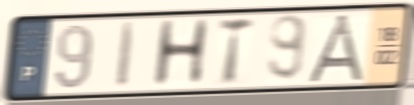9: (266, 12, 310, 88), (52, 22, 95, 92)
A: (303, 12, 369, 85)
H: (148, 16, 213, 91)
I: (113, 19, 140, 91)
T: (215, 15, 258, 87)
